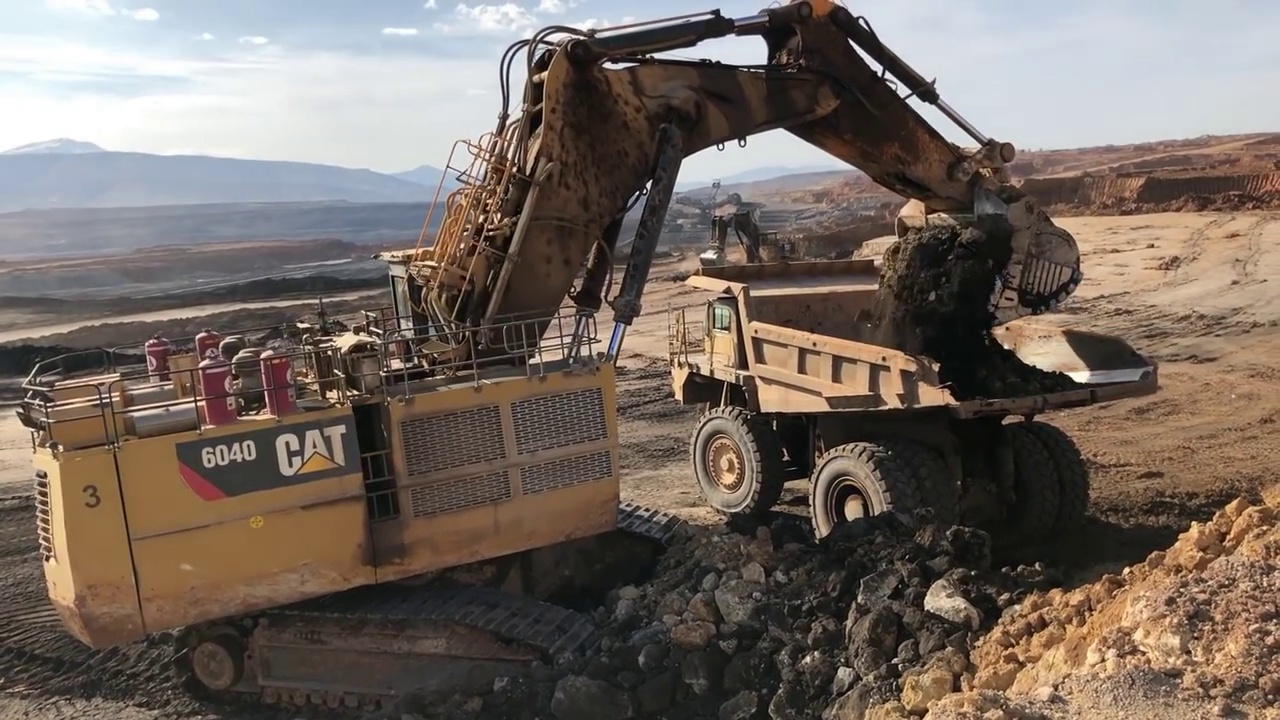dumper: (670, 257, 1160, 549)
excavator: (21, 3, 1083, 709), (699, 204, 807, 269)
